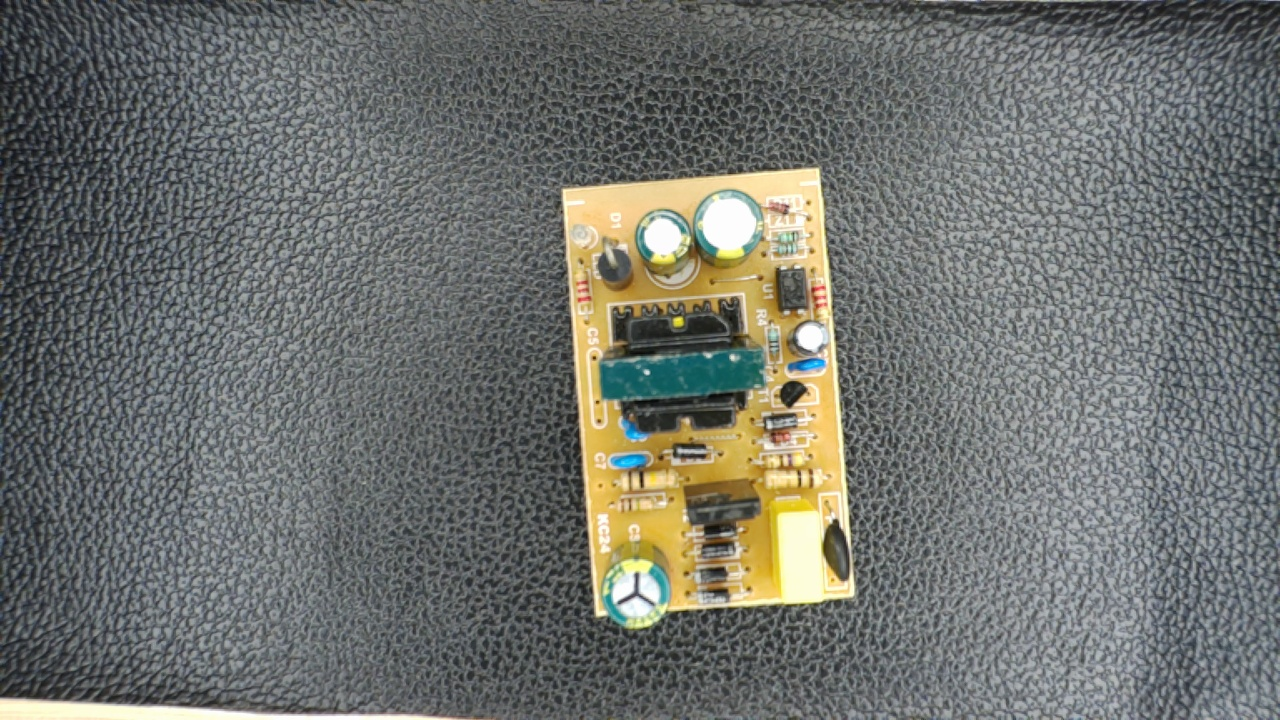fuse: (818, 489, 854, 599)
hv_capacitor: (596, 537, 672, 636)
optocoupler: (768, 263, 813, 321)
